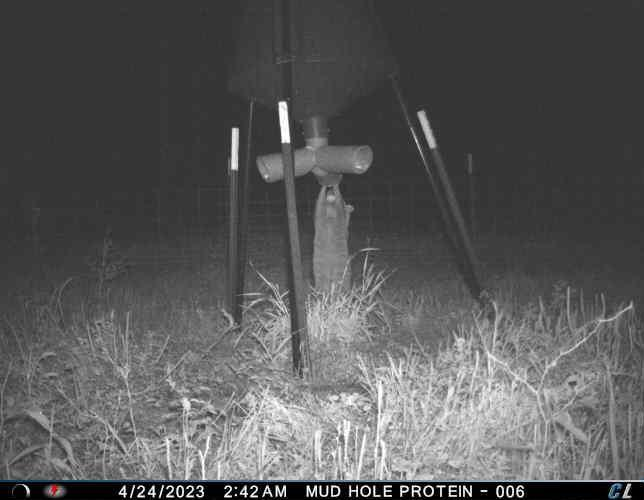Raccoon: (309, 177, 359, 306)
